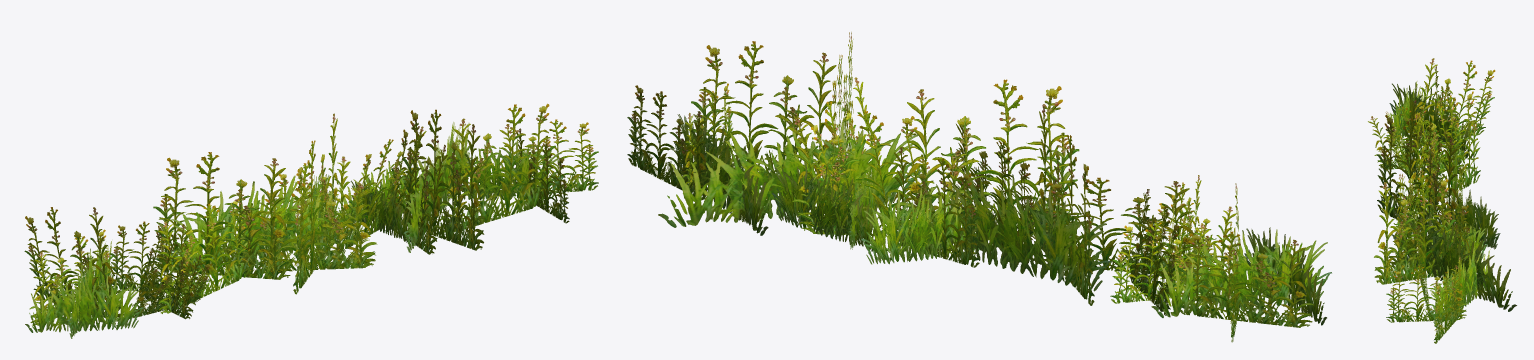
File: DN_grass08a.FBX
The picture shows the model from 3 angles, left to right: view 1: azimuth 30°, elevation 25°; view 2: azimuth 150°, elevation 25°; view 3: azimuth 270°, elevation 25°; orthographic projection. The views are drawn at different scales.
Parts seen in each view (by area): view 1: DN_grass08a; view 2: DN_grass08a; view 3: DN_grass08a.
Part boxes in pixels (x1,y1,x2,y2): DN_grass08a: (24,103,598,338); DN_grass08a: (627,32,1331,342); DN_grass08a: (1368,58,1516,343).
Bounding box in the file's own units: 273 × 72.55 × 79.11.
1 material, 1 textured.
